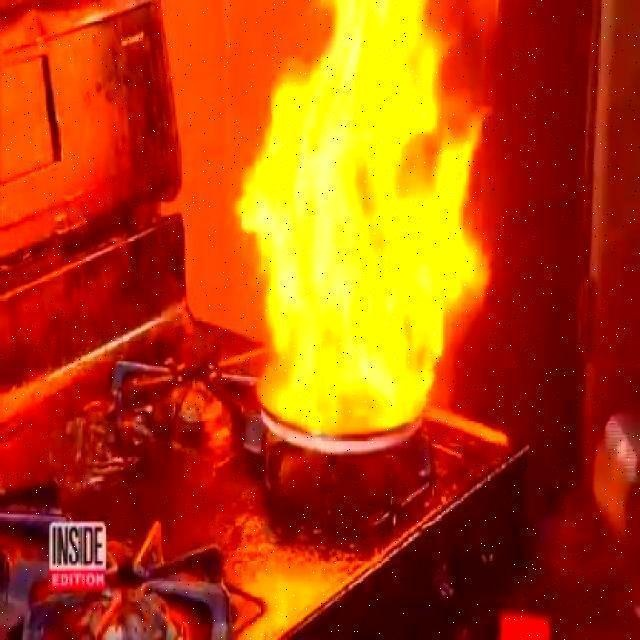fire: (215, 1, 504, 501)
